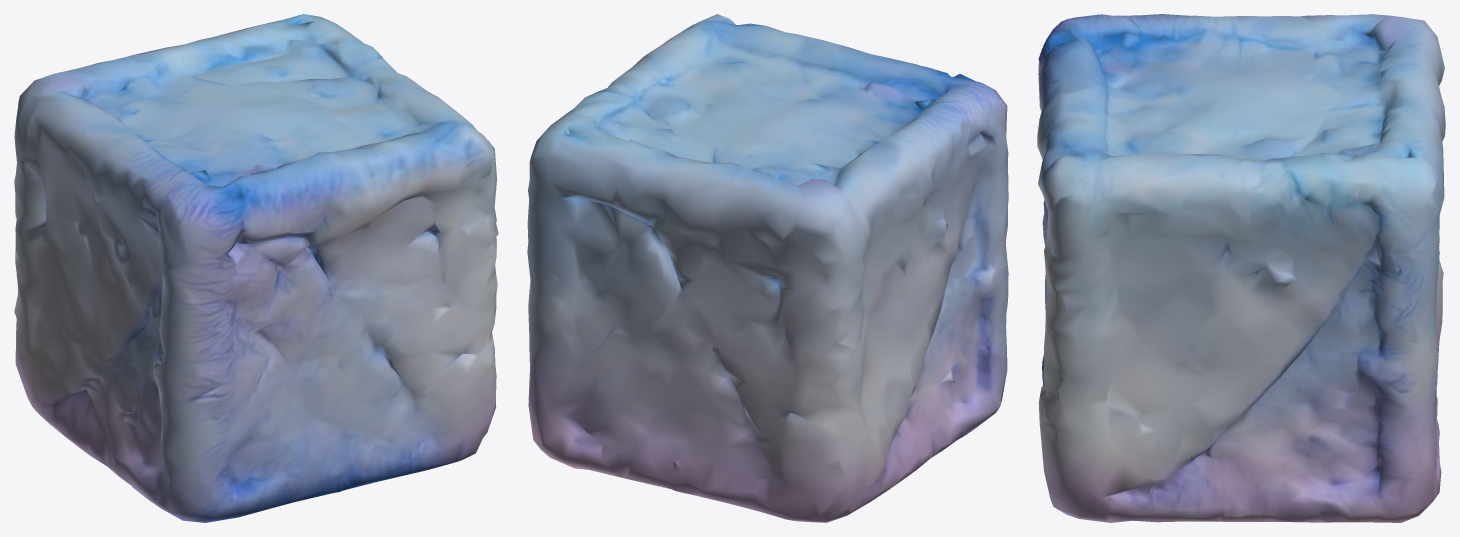
File: ice.glb
3 views of the same model, side by side, from view 1: azimuth 30°, elevation 25°; view 2: azimuth 150°, elevation 25°; view 3: azimuth 270°, elevation 25° (orthographic). The views are drawn at different scales.
Parts seen in each view (by area): view 1: tripo_node_2729bfc7-49d7-4fdb-8441-a9f6eb470ec8; view 2: tripo_node_2729bfc7-49d7-4fdb-8441-a9f6eb470ec8; view 3: tripo_node_2729bfc7-49d7-4fdb-8441-a9f6eb470ec8.
Boxes of the visible parts, x1,y1,x2,y2 form: tripo_node_2729bfc7-49d7-4fdb-8441-a9f6eb470ec8: [14, 14, 498, 522]; tripo_node_2729bfc7-49d7-4fdb-8441-a9f6eb470ec8: [527, 14, 1008, 522]; tripo_node_2729bfc7-49d7-4fdb-8441-a9f6eb470ec8: [1037, 14, 1445, 522].
Size of the model in its own units: 1 by 0.9672 by 0.9887.
Materials: 1 (1 with a texture image).
